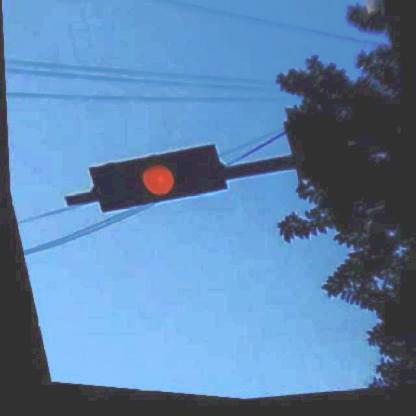Traffic Light -Yellow-: (82, 138, 229, 230)
